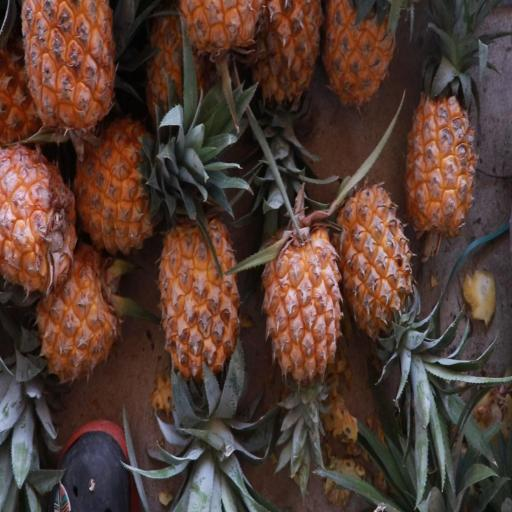Pineapple - v8 v1: (156, 212, 244, 424), (71, 115, 195, 262), (332, 178, 418, 371), (259, 213, 347, 396), (20, 0, 119, 155), (403, 55, 482, 244), (31, 241, 124, 391), (0, 137, 79, 301), (319, 0, 397, 118)
